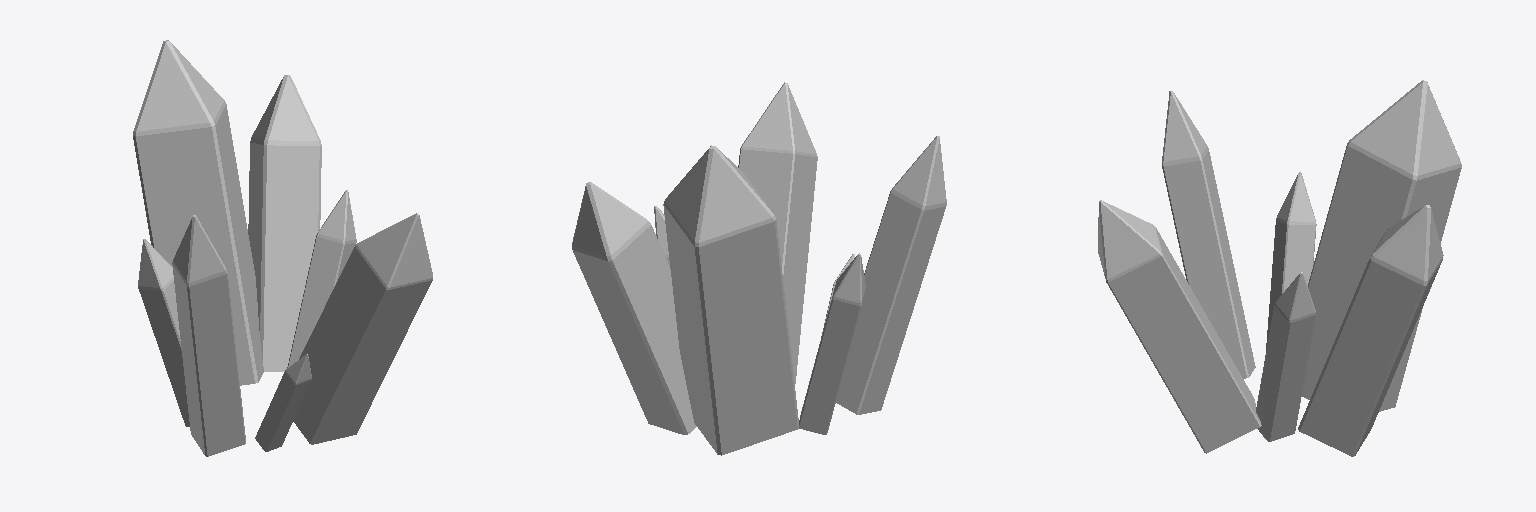
The model's file is Stage2.obj.
3 renders of one model, left to right at view 1: azimuth 30°, elevation 25°; view 2: azimuth 150°, elevation 25°; view 3: azimuth 270°, elevation 25°, orthographic.
Visible parts, largest first — view 1: Stage2_Stage2_CrystalStage2_CrystalCrack.002; view 2: Stage2_Stage2_CrystalStage2_CrystalCrack.002; view 3: Stage2_Stage2_CrystalStage2_CrystalCrack.002.
Part boxes in pixels (bbox=[...]): Stage2_Stage2_CrystalStage2_CrystalCrack.002: bbox=[133, 40, 432, 456]; Stage2_Stage2_CrystalStage2_CrystalCrack.002: bbox=[572, 82, 946, 455]; Stage2_Stage2_CrystalStage2_CrystalCrack.002: bbox=[1098, 80, 1461, 456].
Size of the model in its own units: 0.7138 by 0.9171 by 0.9068.